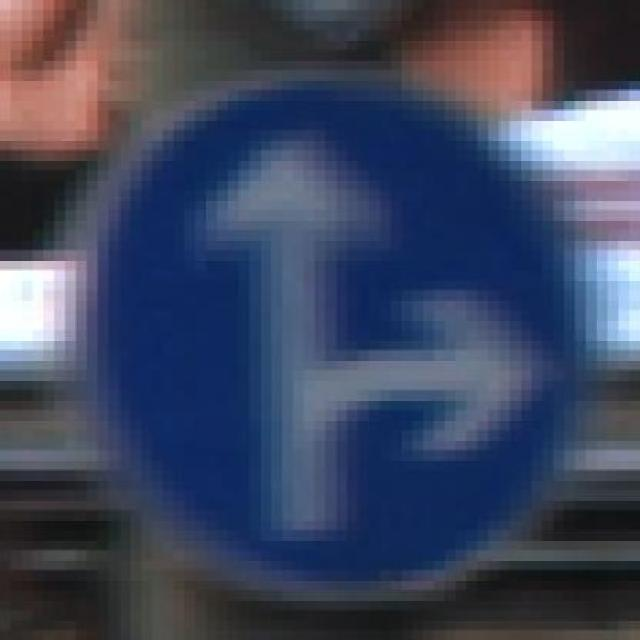Go Straight or Turn Right: (65, 60, 586, 611)
